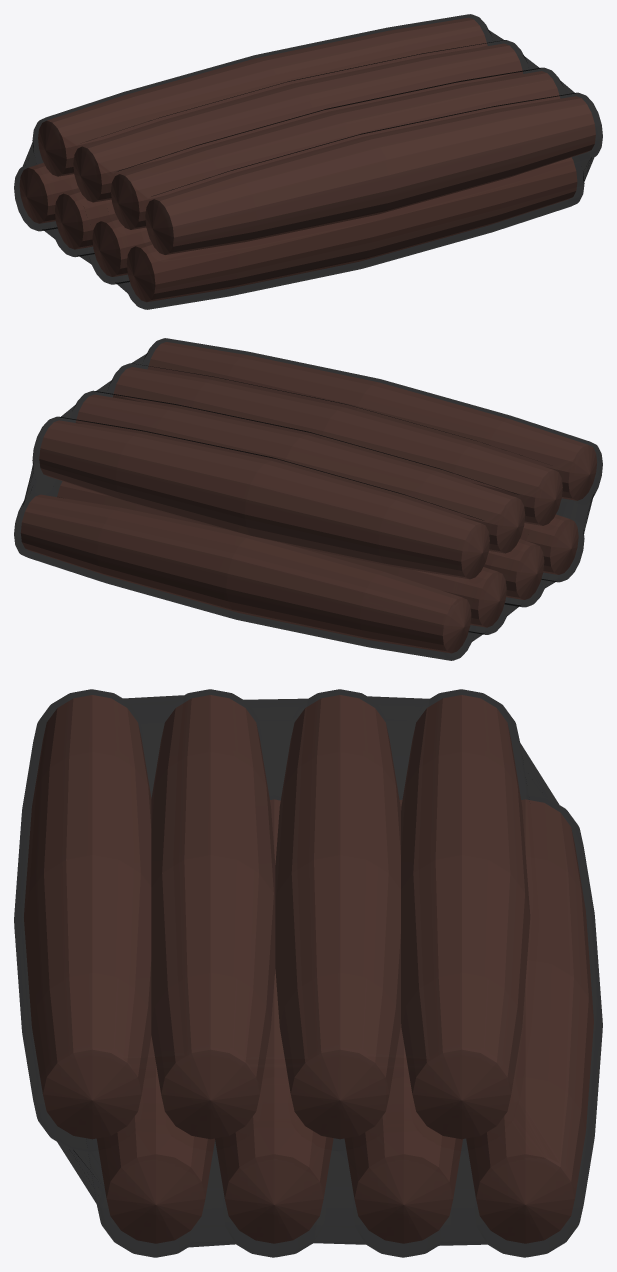
File: PIG_Wrap_Dawgs.glb
3 renders of one model, top to bottom at view 1: azimuth 30°, elevation 25°; view 2: azimuth 150°, elevation 25°; view 3: azimuth 270°, elevation 25°, orthographic. The views are drawn at different scales.
Parts seen in each view (by area): view 1: wrap.002, Dawgs; view 2: wrap.002, Dawgs; view 3: wrap.002, Dawgs.
Part boxes in pixels (left/top/right/bottom): wrap.002: left=14, top=14, right=602, bottom=309; Dawgs: left=20, top=18, right=595, bottom=301; wrap.002: left=14, top=338, right=602, bottom=660; Dawgs: left=21, top=342, right=596, bottom=653; wrap.002: left=14, top=689, right=602, bottom=1257; Dawgs: left=24, top=695, right=593, bottom=1243.
Bounding box in the file's own units: 1.46 × 0.4452 × 0.9679.
2 materials, 2 textured.
